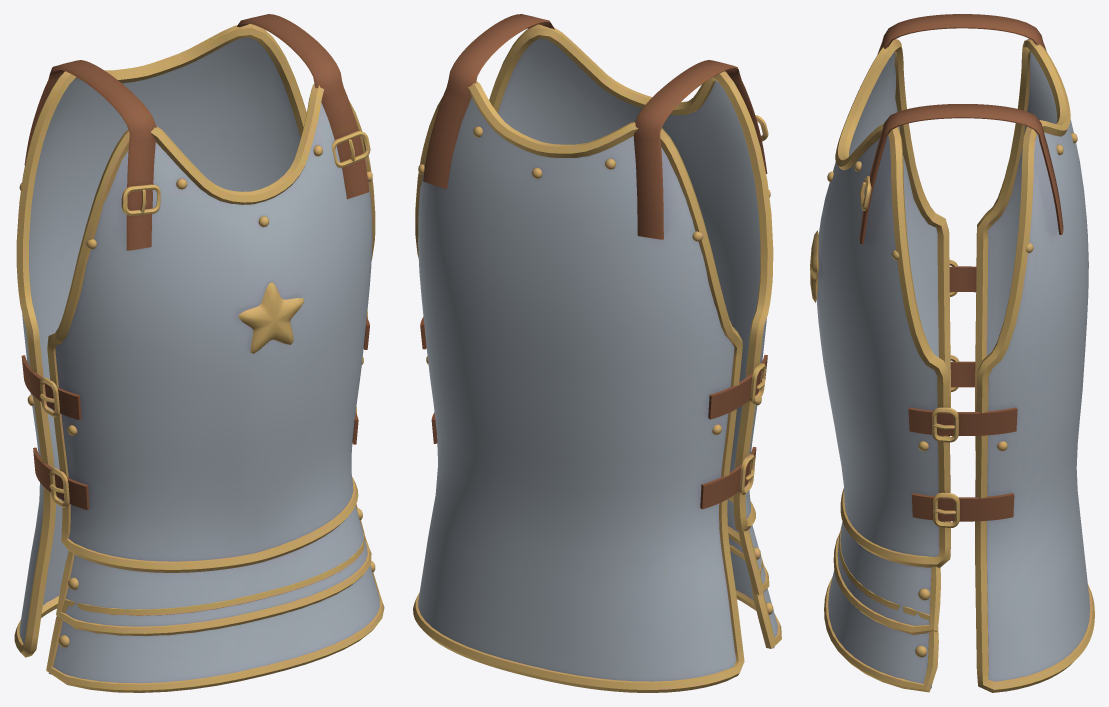
Rendered from breastplate.glb.
The picture shows the model from 3 angles, left to right: view 1: azimuth 30°, elevation 25°; view 2: azimuth 150°, elevation 25°; view 3: azimuth 270°, elevation 25°; orthographic projection. The views are drawn at different scales.
Parts seen in each view (by area): view 1: breastplate_body; view 2: breastplate_body; view 3: breastplate_body.
Part boxes in pixels (box(x1,y1,x2,y2)): breastplate_body: box(14, 14, 384, 692); breastplate_body: box(413, 14, 781, 692); breastplate_body: box(810, 14, 1094, 692).
Size of the model in its own units: 0.3711 by 0.6144 by 0.2857.
Materials: 1 (1 with a texture image).
